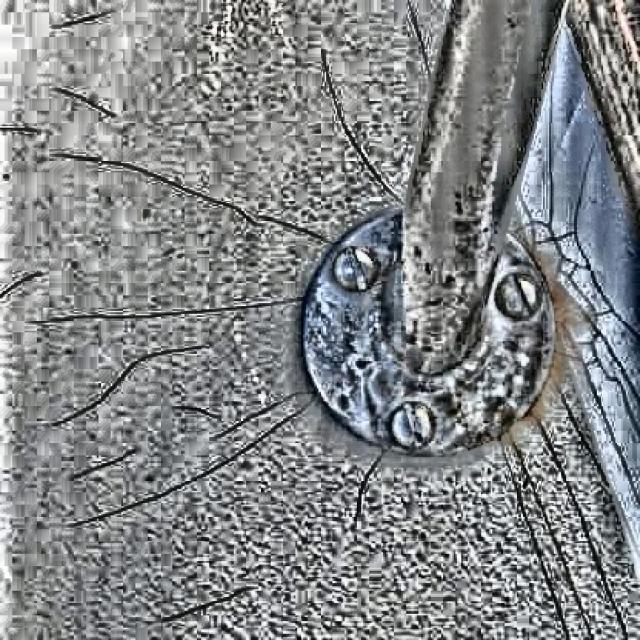crack: (48, 417, 353, 535), (62, 145, 359, 249), (303, 53, 399, 196), (29, 274, 309, 322), (55, 345, 203, 428), (194, 390, 313, 448), (142, 580, 285, 623), (349, 443, 389, 560), (68, 445, 157, 490)
